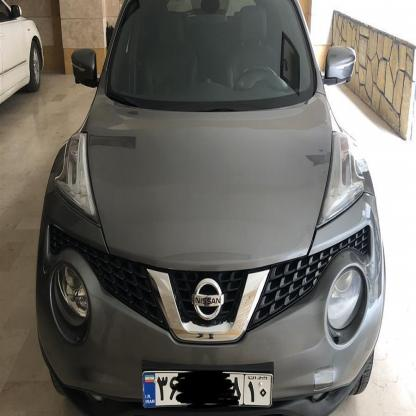Car: (32, 0, 391, 416), (0, 0, 56, 134)
